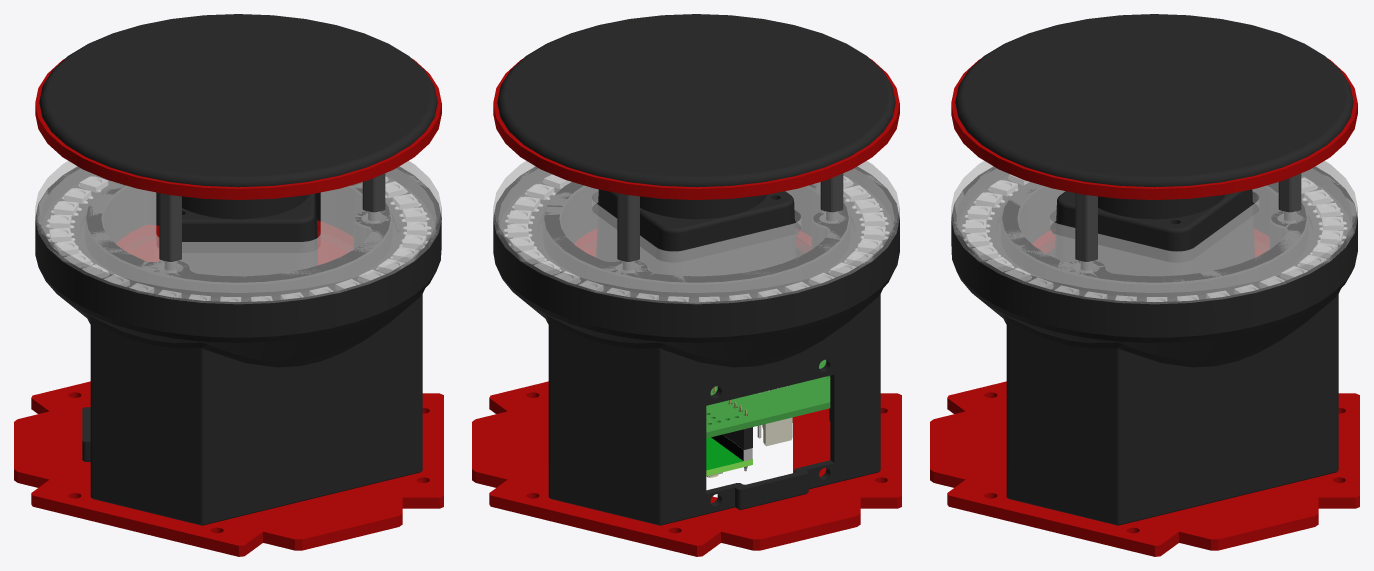
Rendered from beacon.glb.
3 renders of one model, left to right at view 1: azimuth 30°, elevation 25°; view 2: azimuth 150°, elevation 25°; view 3: azimuth 270°, elevation 25°, orthographic.
Visible parts, largest first — view 1: CoqueLidar2023, SupportCrochet, PlaqueDiffuse2023, SupportBeacon, BaseLD06, TopSupport, WS2812B, SupportLD06-2023, PCBRingLed, M3x55x20-Standoff, M3x55x20-Standoff001; view 2: CoqueLidar2023, SupportCrochet, PlaqueDiffuse2023, SupportBeacon, BaseLD06, TopSupport, WS2812B, MatDetection-2023_PCB, PCBRingLed, M3x55x20-Standoff002, M3x55x20-Standoff, SOLID_909 (+2 smaller); view 3: CoqueLidar2023, SupportCrochet, PlaqueDiffuse2023, SupportBeacon, BaseLD06, TopSupport, WS2812B, PCBRingLed, M3x55x20-Standoff001, M3x55x20-Standoff002, SupportLD06-2023.
Part boxes in pixels (x1,y1,x2,y2): CoqueLidar2023: (35,166,441,525); SupportCrochet: (39,14,437,187); PlaqueDiffuse2023: (35,161,441,303); SupportBeacon: (14,381,443,556); BaseLD06: (159,193,317,275); TopSupport: (35,58,441,199); WS2812B: (46,176,431,301); SupportLD06-2023: (116,220,353,264); PCBRingLed: (42,175,434,301); M3x55x20-Standoff: (159,193,181,272); M3x55x20-Standoff001: (362,173,385,223); CoqueLidar2023: (493,166,899,525); SupportCrochet: (497,14,895,187); PlaqueDiffuse2023: (493,161,899,304); SupportBeacon: (472,381,901,556); BaseLD06: (596,189,798,275); TopSupport: (493,58,899,199); WS2812B: (503,174,889,301); MatDetection-2023_PCB: (706,359,830,438); PCBRingLed: (500,179,892,301); M3x55x20-Standoff002: (617,193,639,272); M3x55x20-Standoff: (820,173,843,223); SOLID_909: (706,437,743,470); CoqueLidar2023: (951,166,1357,525); SupportCrochet: (955,14,1353,187); PlaqueDiffuse2023: (951,161,1357,303); SupportBeacon: (930,381,1359,556); BaseLD06: (1052,189,1254,275); TopSupport: (951,58,1357,199); WS2812B: (961,174,1347,301); PCBRingLed: (958,175,1350,301); M3x55x20-Standoff001: (1075,193,1097,272); M3x55x20-Standoff002: (1278,173,1301,223); SupportLD06-2023: (1032,228,1269,257).
Bounding box in the file's own units: 0.1156 × 0.097 × 0.1046.
